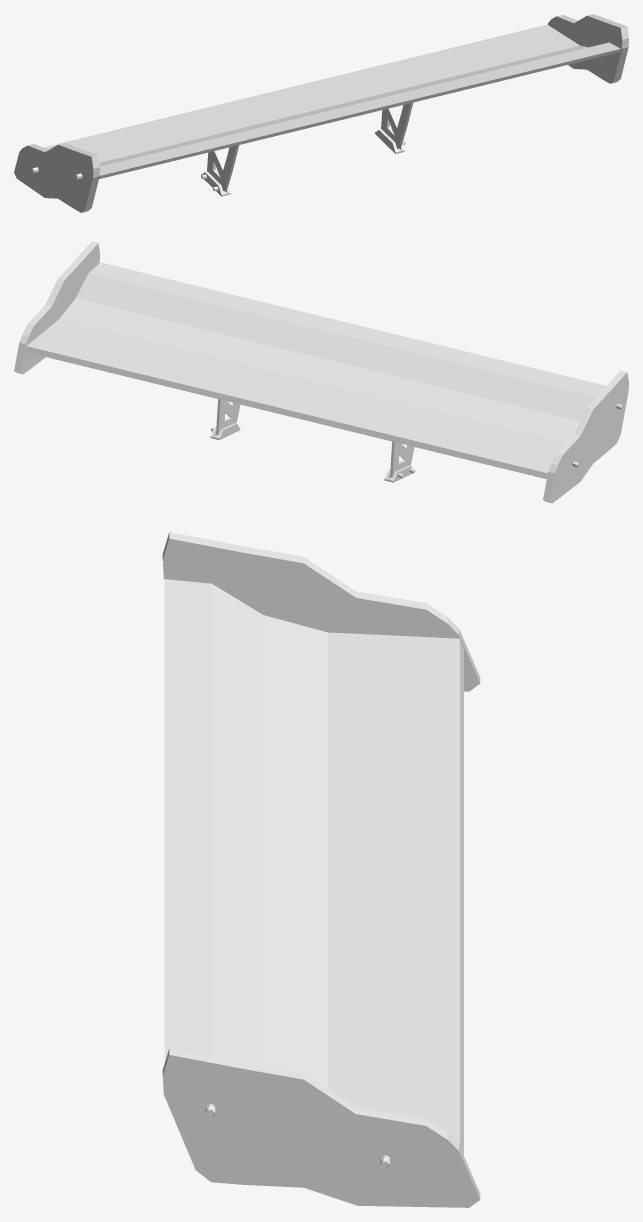
Rendered from Spojler_uno.fbx.
The picture shows the model from 3 angles, top to bottom: view 1: azimuth 30°, elevation 25°; view 2: azimuth 150°, elevation 25°; view 3: azimuth 270°, elevation 25°; orthographic projection. The views are drawn at different scales.
Parts seen in each view (by area): view 1: uploads_files_45744_1.001, uploads_files_45744_1.002; view 2: uploads_files_45744_1.001, uploads_files_45744_1.002; view 3: uploads_files_45744_1.001, uploads_files_45744_1.002.
Boxes of the visible parts, x1,y1,x2,y2 form: uploads_files_45744_1.001: (31, 24, 620, 196); uploads_files_45744_1.002: (14, 14, 628, 212); uploads_files_45744_1.001: (25, 262, 623, 482); uploads_files_45744_1.002: (14, 241, 628, 503); uploads_files_45744_1.001: (164, 579, 463, 1168); uploads_files_45744_1.002: (162, 532, 480, 1207).
Bounding box in the file's own units: 196 × 38.45 × 49.37.
